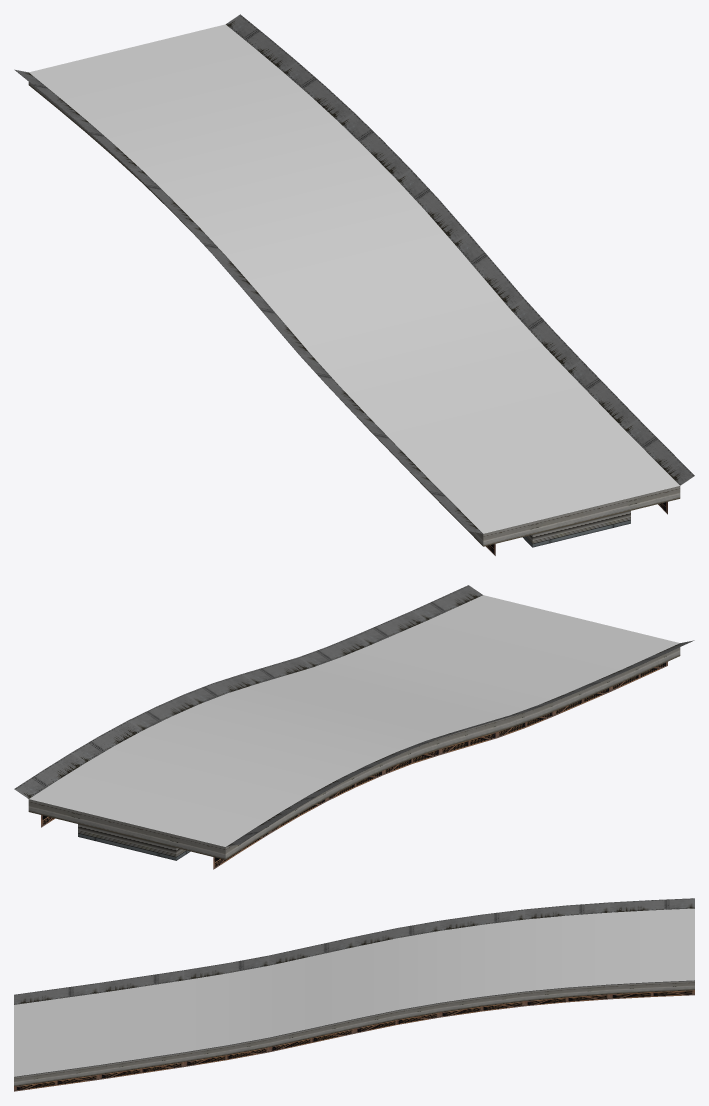
File: TrackRamp02.fbx
3 renders of one model, top to bottom at view 1: azimuth 30°, elevation 25°; view 2: azimuth 150°, elevation 25°; view 3: azimuth 270°, elevation 25°, orthographic. The views are drawn at different scales.
Visible parts, largest first — view 1: Empty_Mesh; view 2: Empty_Mesh; view 3: Empty_Mesh.
Boxes of the visible parts, x1,y1,x2,y2 form: Empty_Mesh: (14, 14, 694, 555); Empty_Mesh: (14, 585, 694, 869); Empty_Mesh: (14, 898, 694, 1091).
Size of the model in its own units: 18.4 by 12.5 by 64.
